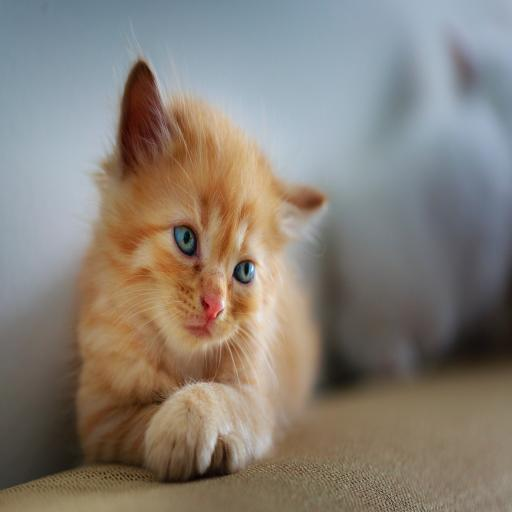cats: (76, 59, 326, 481)
